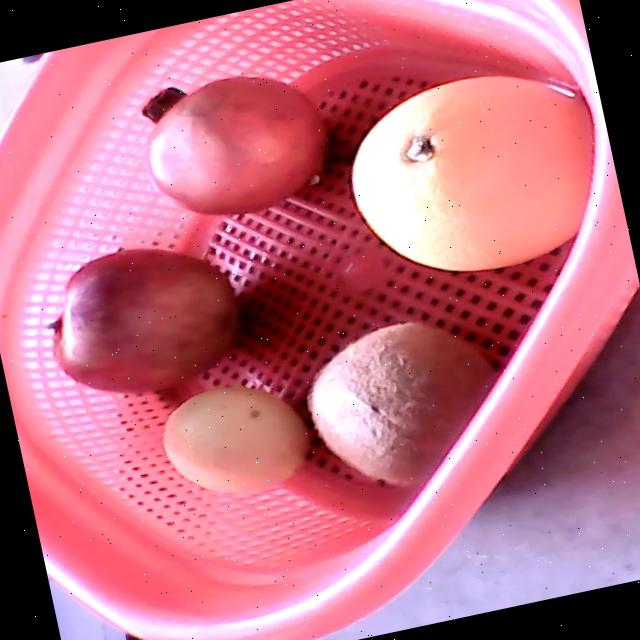apple: (47, 246, 239, 392)
kiwi: (309, 321, 498, 487)
lemon: (164, 387, 308, 493)
orange: (352, 75, 593, 271)
pomegranate: (141, 75, 327, 214)
